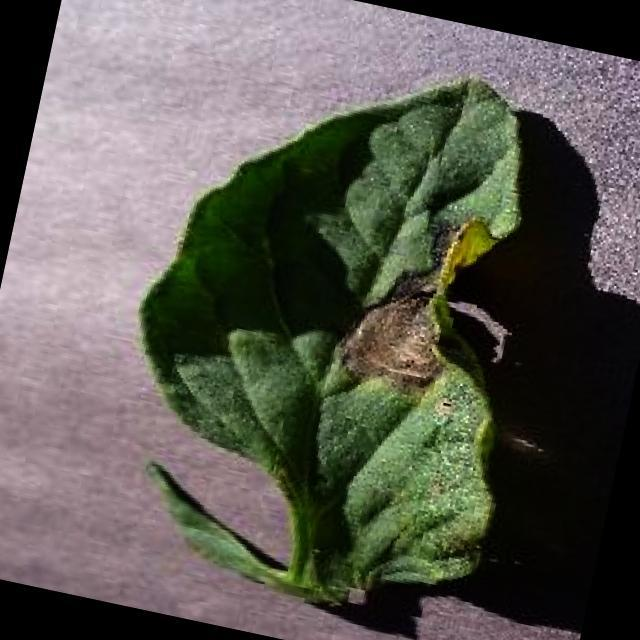Tomato Early blight leaf: (84, 18, 578, 635)
